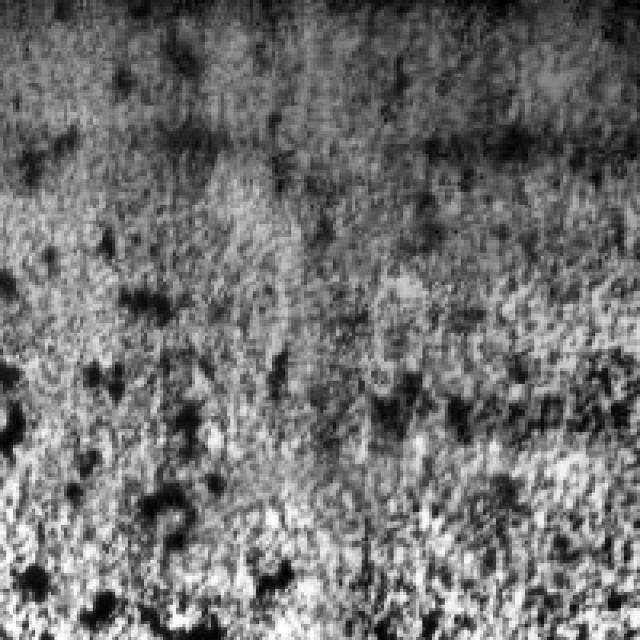Rolled_in_Scale: (176, 48, 634, 637)
